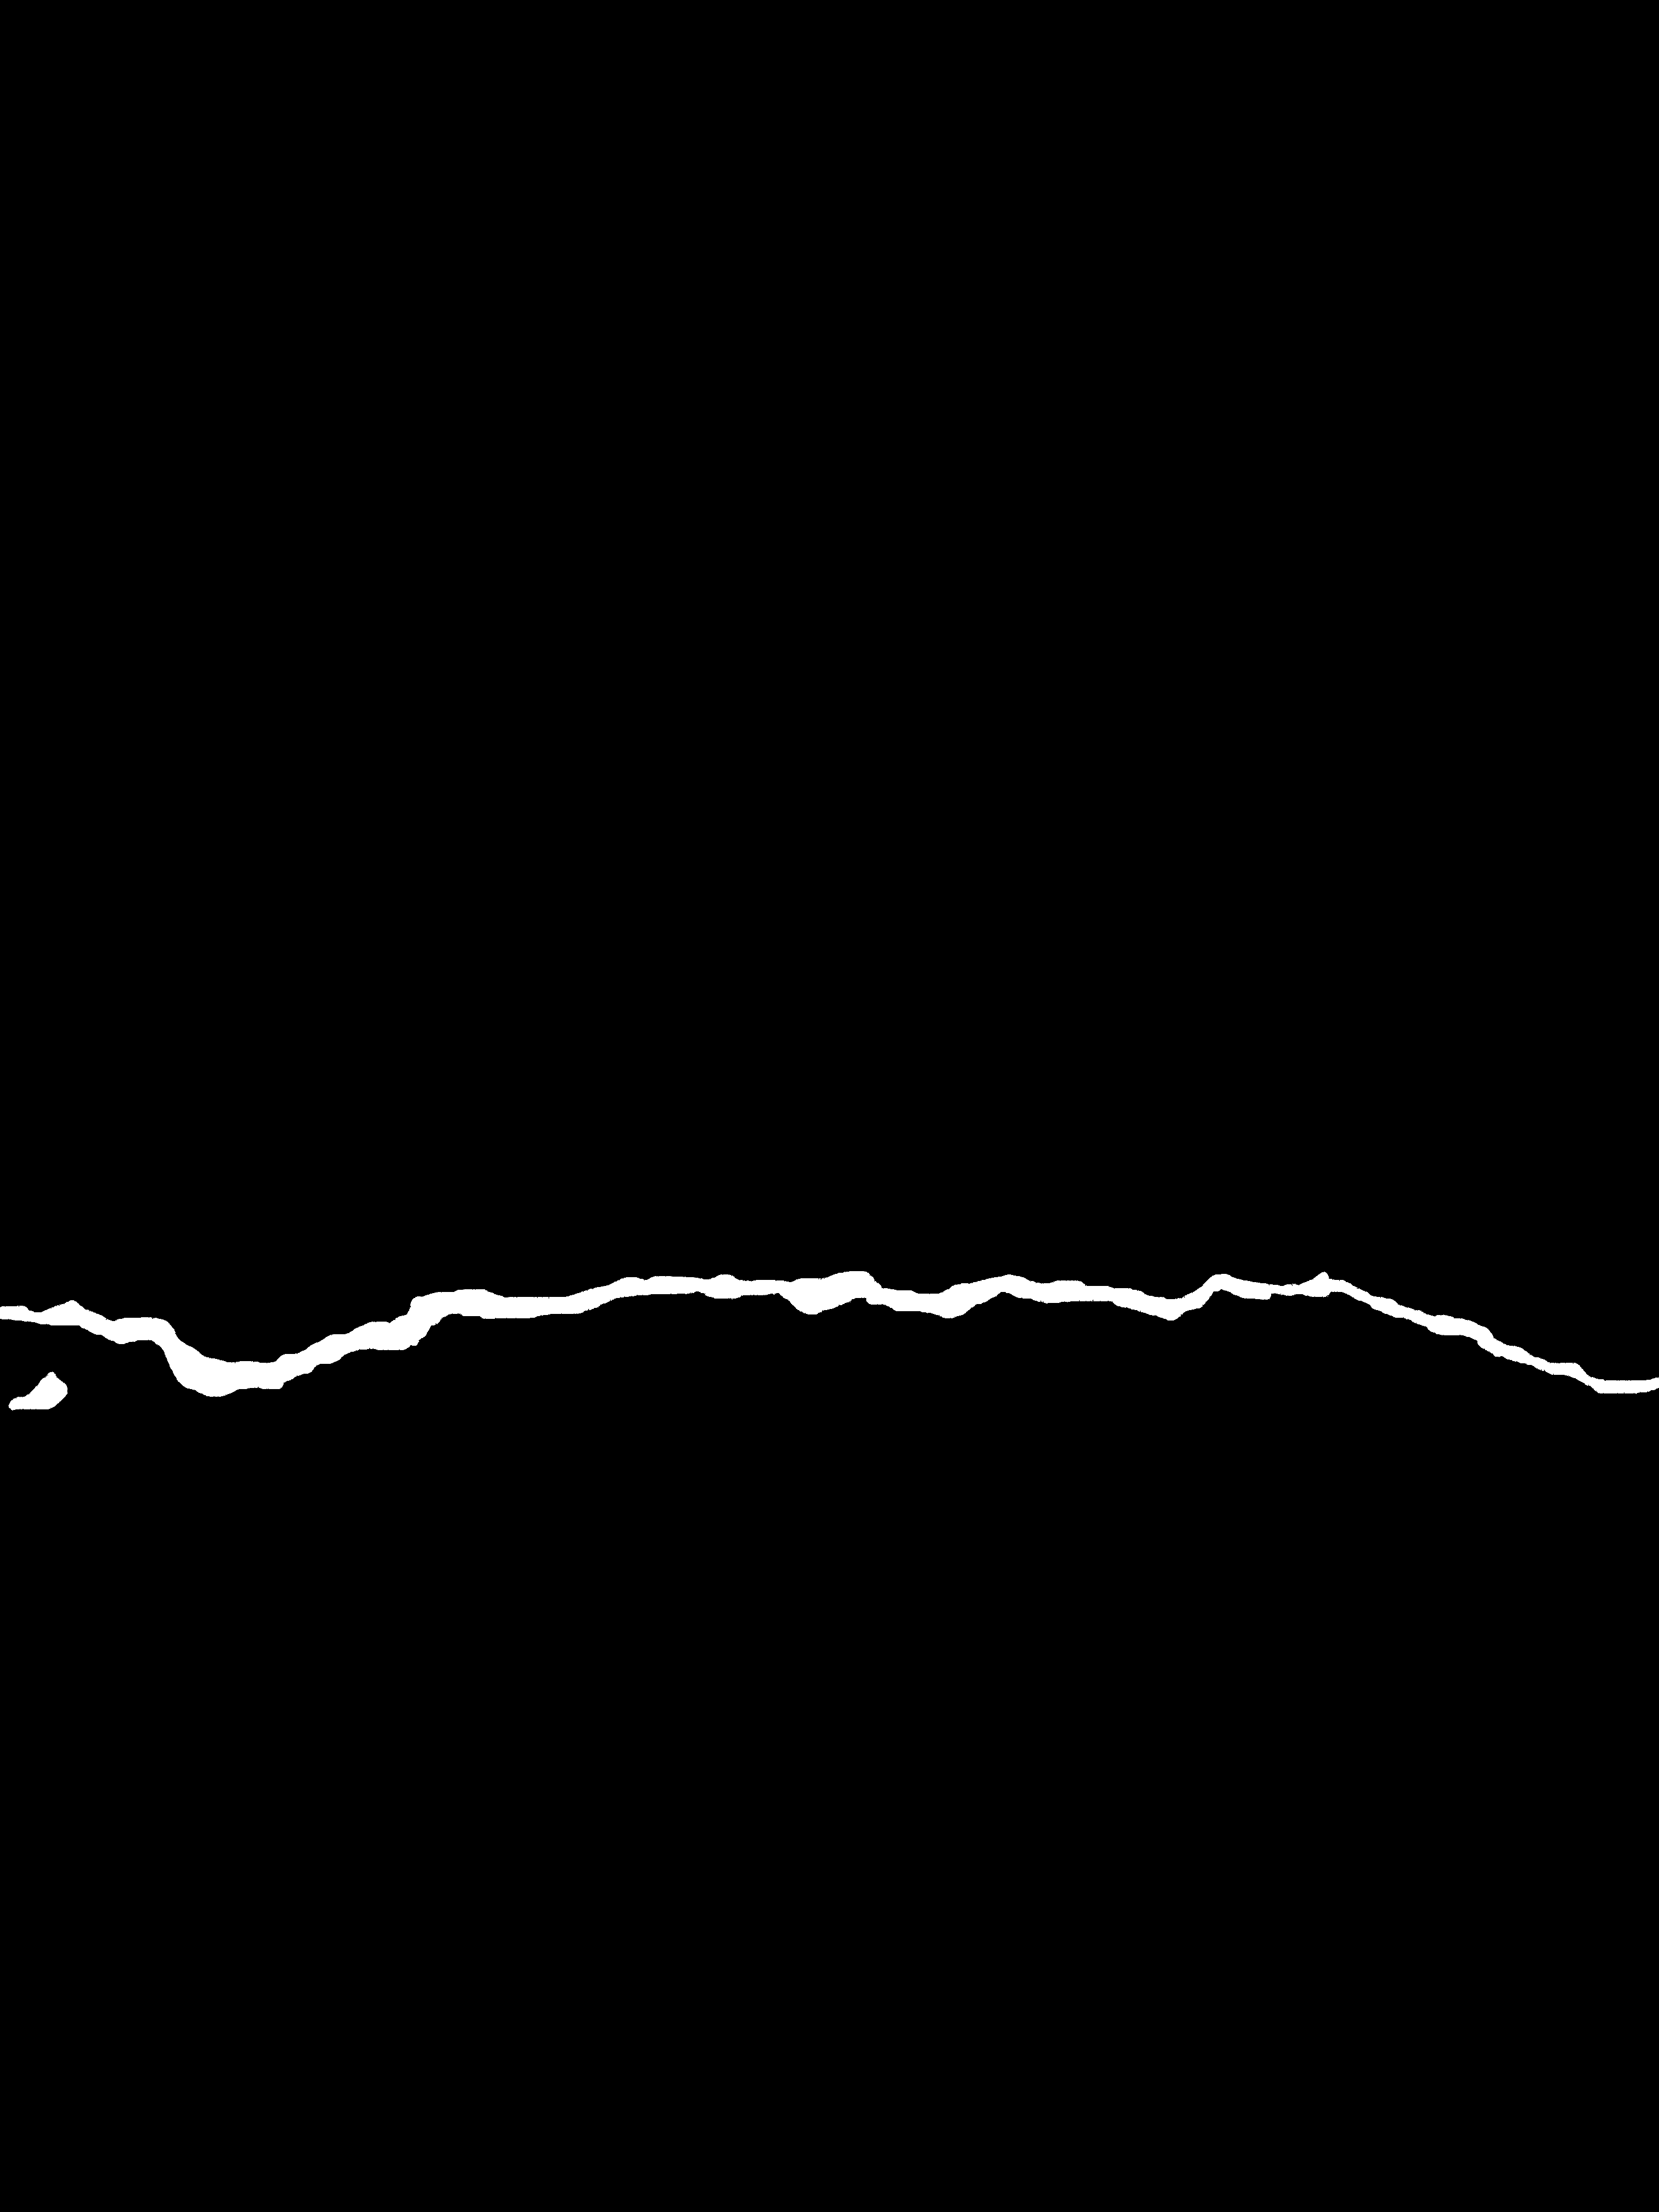Crack: (0, 1211, 1659, 1435)
